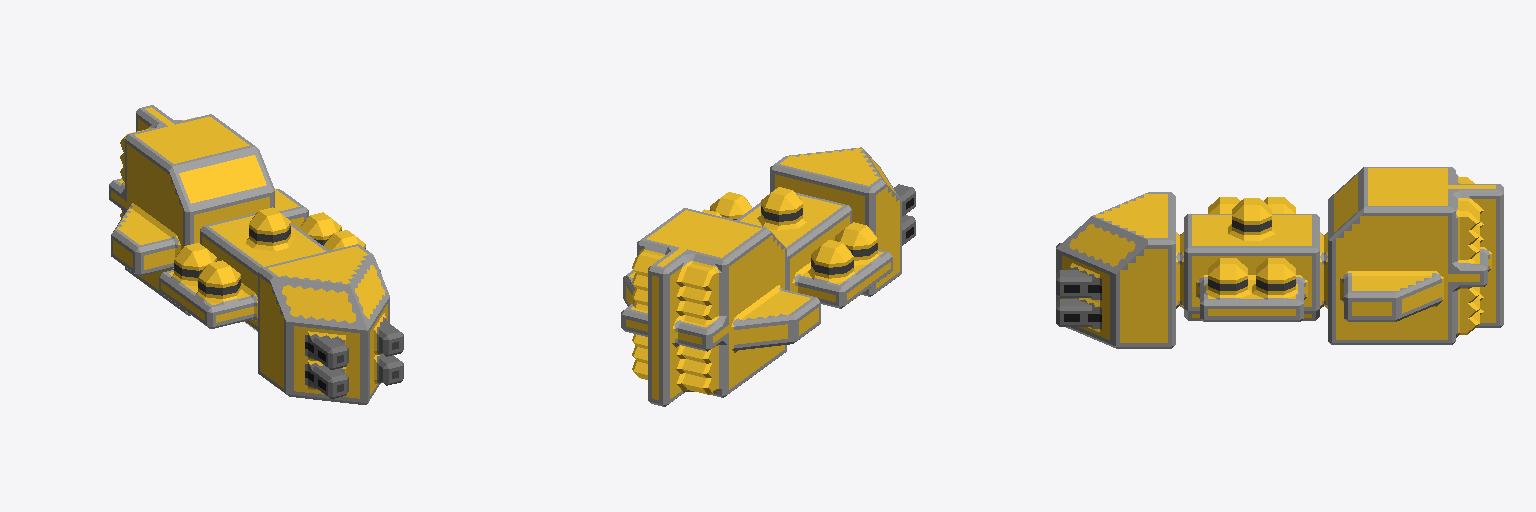
3 views of the same model, side by side, from view 1: azimuth 30°, elevation 25°; view 2: azimuth 150°, elevation 25°; view 3: azimuth 270°, elevation 25° (orthographic).
Size of the model in its own units: 25 by 19 by 56.
1 materials, 1 textured.